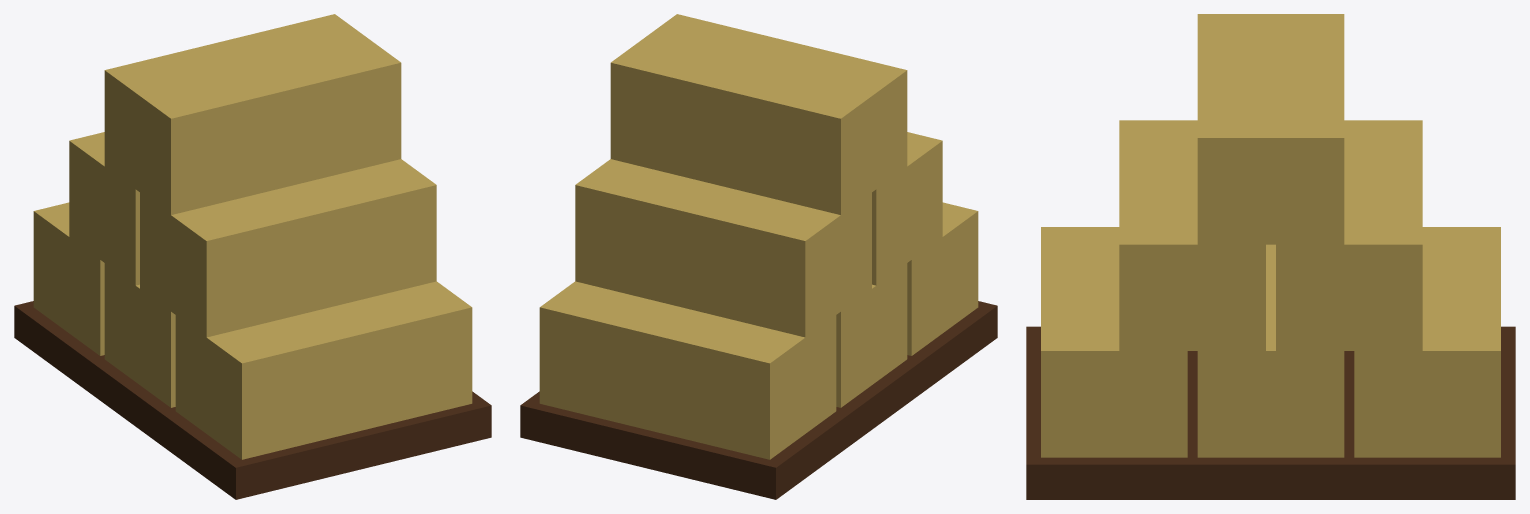
File: kit-hay-bale-stack.glb
3 renders of one model, left to right at view 1: azimuth 30°, elevation 25°; view 2: azimuth 150°, elevation 25°; view 3: azimuth 270°, elevation 25°, orthographic. The views are drawn at different scales.
Parts seen in each view (by area): view 1: hay_bale_stack; view 2: hay_bale_stack; view 3: hay_bale_stack.
Boxes of the visible parts, left/top/right/bottom form: hay_bale_stack: left=14, top=14, right=491, bottom=499; hay_bale_stack: left=520, top=14, right=997, bottom=499; hay_bale_stack: left=1026, top=14, right=1515, bottom=499.
Bounding box in the file's own units: 1 × 1.2 × 1.5.
